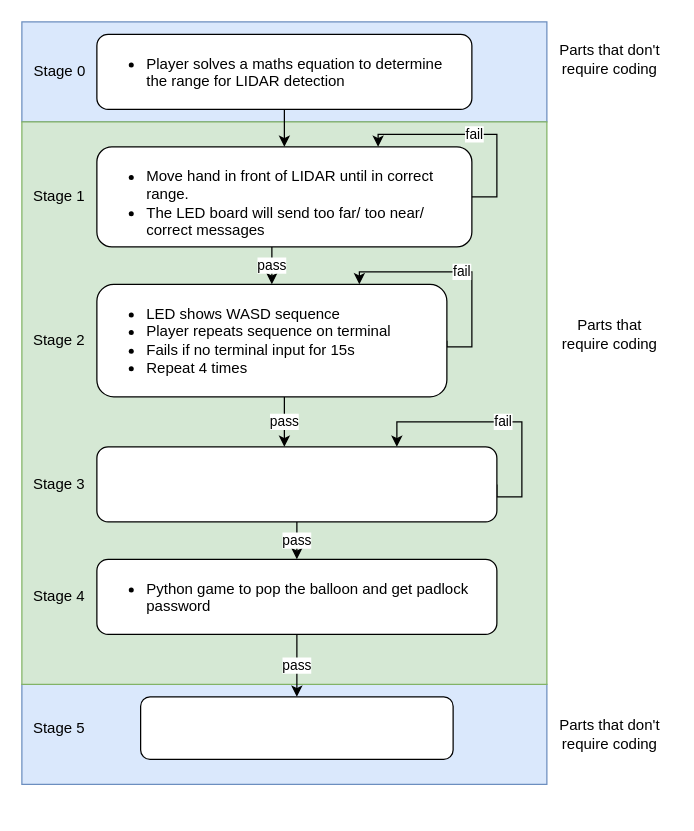
Some shapes in this 694 by 831 pixel diagram are drawn without their labels. The shapes that lost their labels are listed below. From the top down, each one's centre as x and y in pixels, then its label:
the point at 296,484: Tilt PTU until in correct position using some type of input
the point at 296,727: open a padlock using the password
